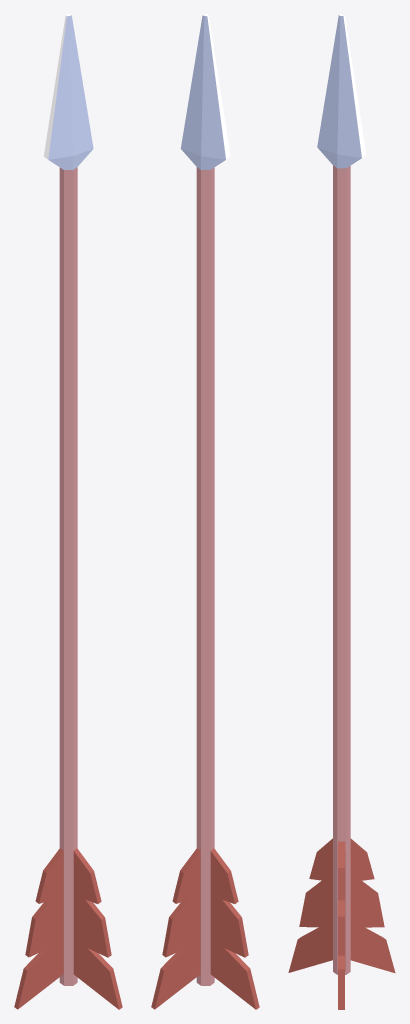
Rendered from arrow.glb.
3 renders of one model, left to right at view 1: azimuth 30°, elevation 25°; view 2: azimuth 150°, elevation 25°; view 3: azimuth 330°, elevation 25°, orthographic.
Parts seen in each view (by area): view 1: Arrow; view 2: Arrow; view 3: Arrow.
Part boxes in pixels (bbox=[...]): Arrow: bbox=[14, 14, 122, 1009]; Arrow: bbox=[151, 14, 259, 1009]; Arrow: bbox=[288, 14, 395, 1009].
Size of the model in its own units: 12.69 by 146 by 14.6.
